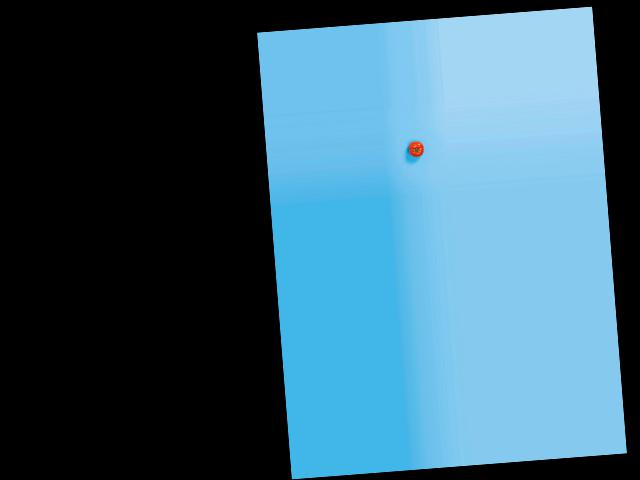tomato: (408, 141, 424, 158)
